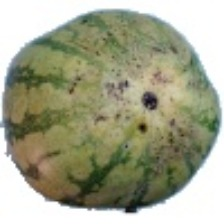watermelon: (46, 24, 202, 205)
